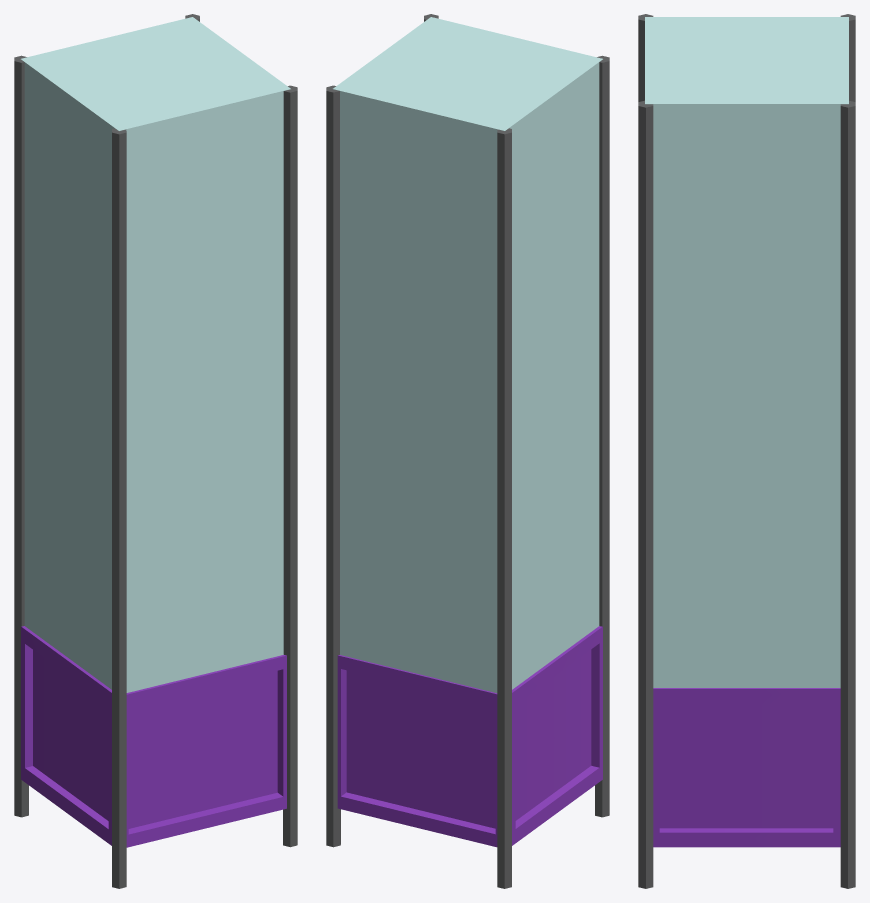
The model's file is glass shelf.fbx.
3 renders of one model, left to right at view 1: azimuth 30°, elevation 25°; view 2: azimuth 150°, elevation 25°; view 3: azimuth 270°, elevation 25°, orthographic. The views are drawn at different scales.
Visible parts, largest first — view 1: shelf_glass, glass shelf; view 2: shelf_glass, glass shelf; view 3: shelf_glass, glass shelf.
Boxes of the visible parts, x1,y1,x2,y2 form: shelf_glass: [20, 17, 290, 692]; glass shelf: [14, 14, 297, 888]; shelf_glass: [333, 17, 602, 692]; glass shelf: [326, 14, 609, 888]; shelf_glass: [645, 17, 848, 687]; glass shelf: [638, 14, 855, 888].
Bounding box in the file's own units: 93.48 × 364 × 91.72.
